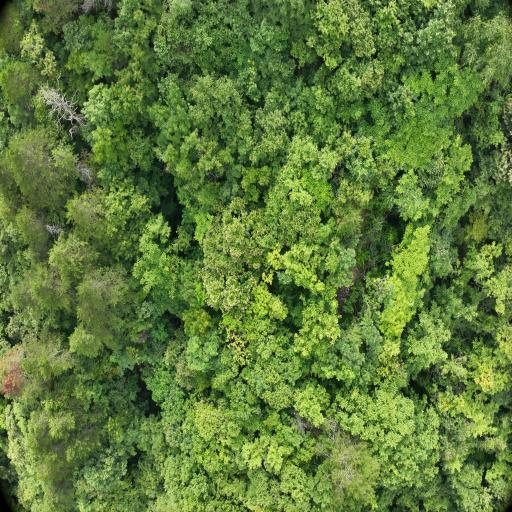dead-tree: (40, 86, 80, 126)
